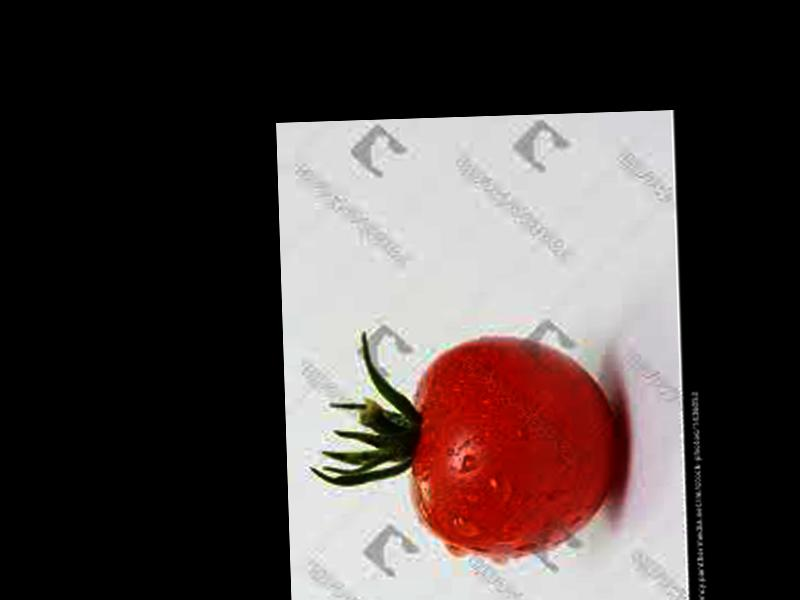Tomato: (410, 333, 621, 559)
